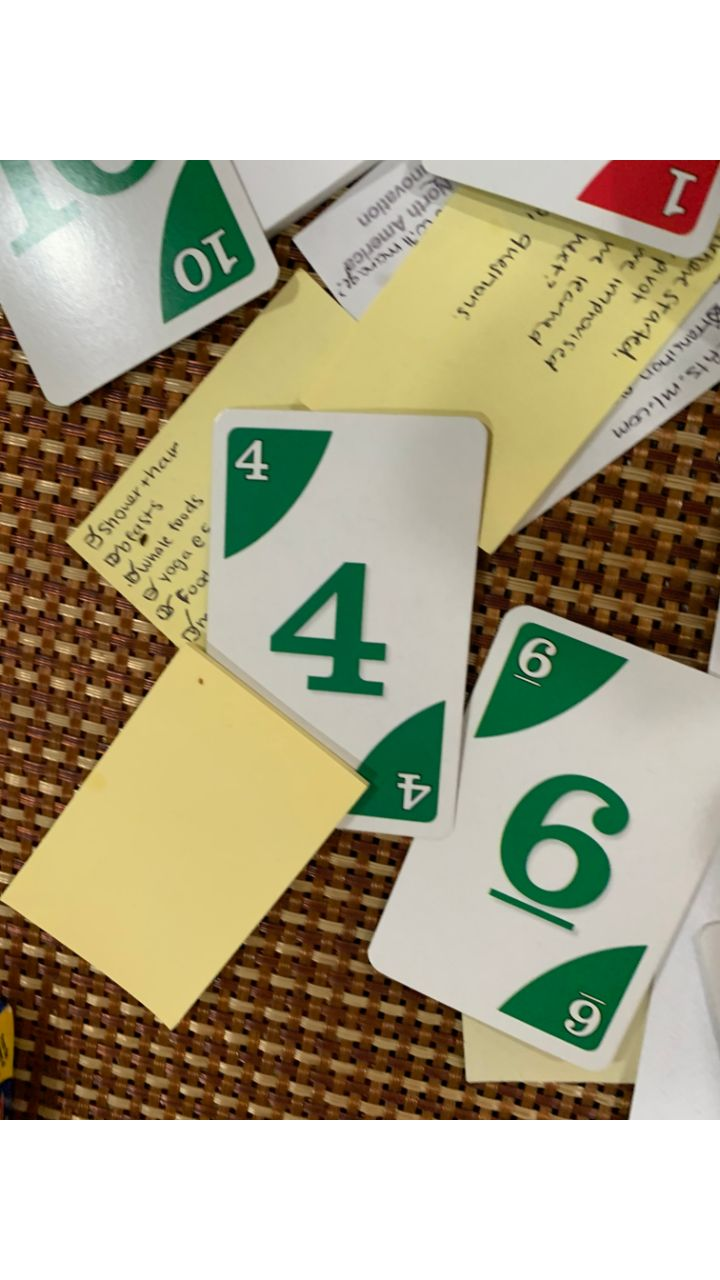four: (210, 403, 487, 835)
six: (362, 599, 720, 1079)
